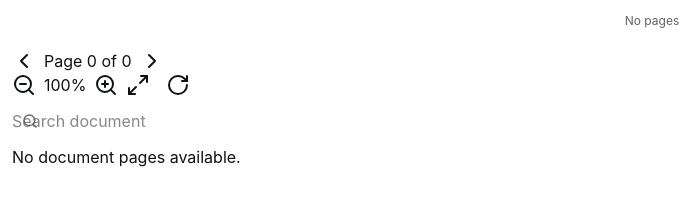
Scenario: @moritzbrantner/ui component edge cases › DocumentViewer handles empty searches without page navigation
Type "invoice" into the field labelled "Search document" at [136, 121], box 12,109 -> 260,133
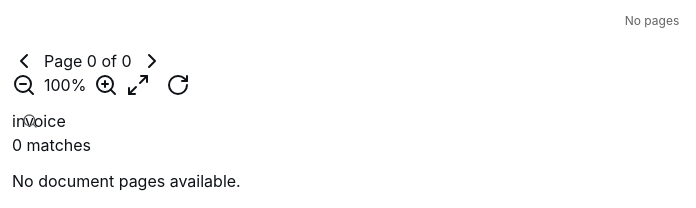
Expected: the text "No document pages available." is shown, 12,171 -> 241,191
Expected: the text "0 matches" is shown, 12,135 -> 91,155
